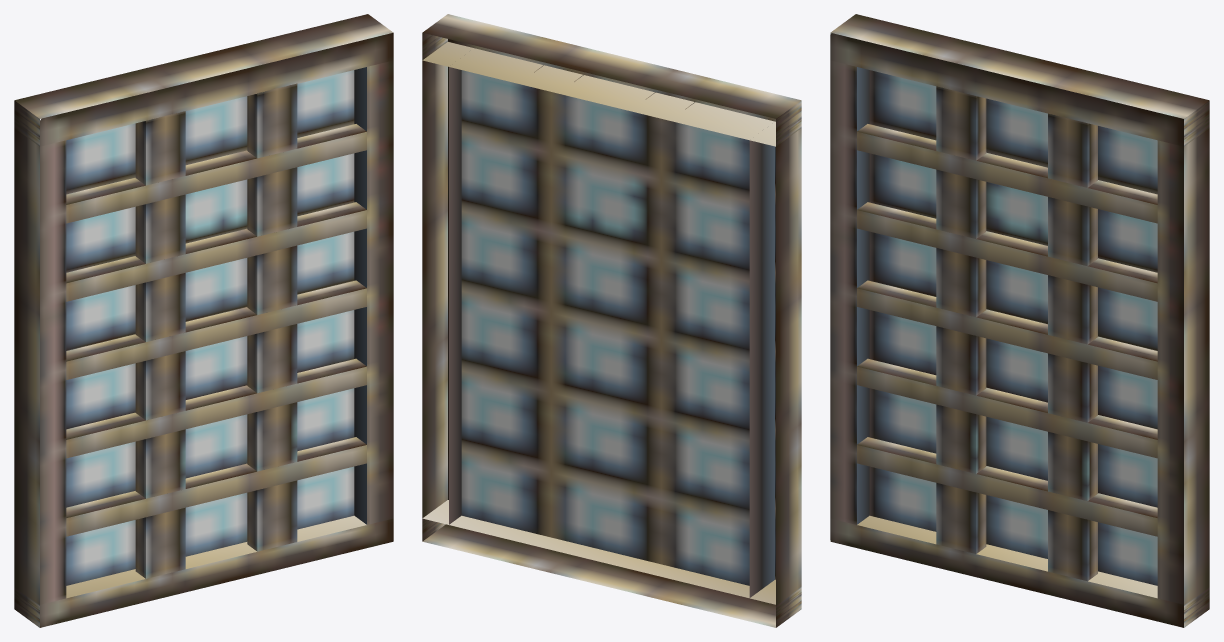
File: Poly_SF_Outside_B_Window_15.obj
3 views of the same model, side by side, from view 1: azimuth 30°, elevation 25°; view 2: azimuth 150°, elevation 25°; view 3: azimuth 330°, elevation 25° (orthographic).
Parts seen in each view (by area): view 1: Cube.001, Cube.002, Cube.003, Cube.004; view 2: Cube.001, Cube.002; view 3: Cube.001, Cube.002, Cube.003, Cube.004.
Part boxes in pixels (left/top/right/bottom): Cube.001: left=14, top=14, right=393, bottom=627; Cube.002: left=14, top=60, right=393, bottom=604; Cube.003: left=66, top=124, right=366, bottom=536; Cube.004: left=135, top=83, right=297, bottom=578; Cube.001: left=422, top=14, right=801, bottom=627; Cube.002: left=422, top=60, right=801, bottom=604; Cube.001: left=830, top=14, right=1209, bottom=627; Cube.002: left=830, top=60, right=1209, bottom=604; Cube.003: left=857, top=124, right=1157, bottom=536; Cube.004: left=936, top=86, right=1097, bottom=581.
Size of the model in its own units: 0.8 by 1.1 by 0.1.
Materials: 1 (1 with a texture image).
